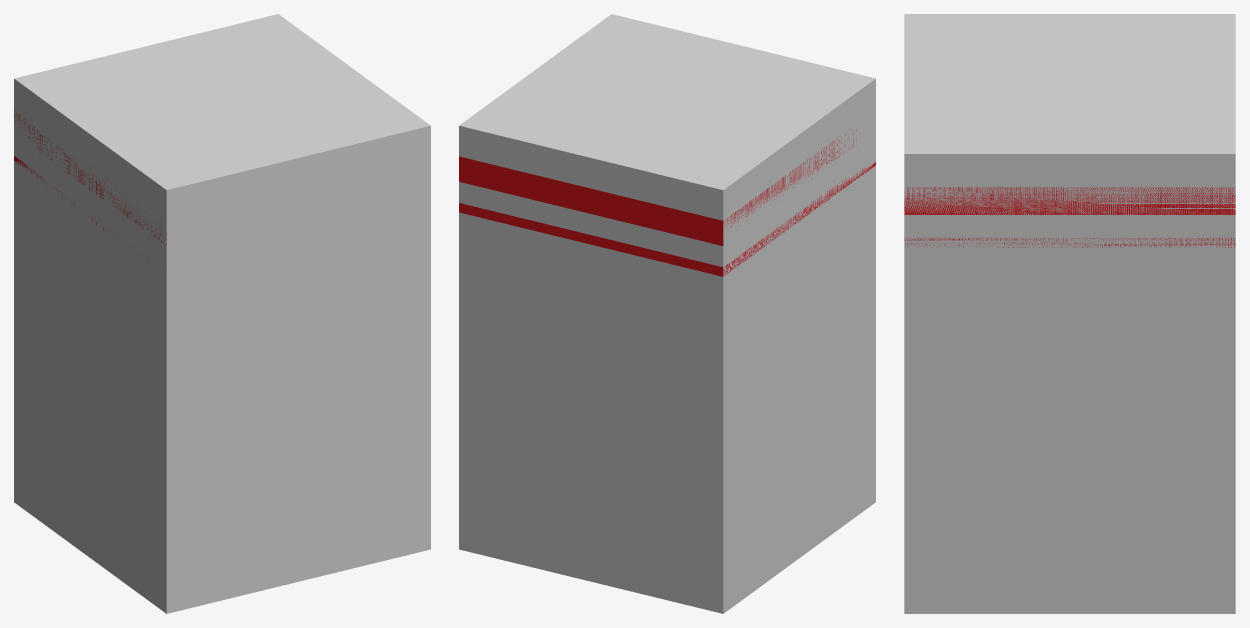
Rendered from Baptiste - Cube obsatcle V1.fbx.
3 views of the same model, side by side, from view 1: azimuth 30°, elevation 25°; view 2: azimuth 150°, elevation 25°; view 3: azimuth 270°, elevation 25° (orthographic). The views are drawn at different scales.
Visible parts, largest first — view 1: Cube.001, Cube.003; view 2: Cube.001, Cube.003; view 3: Cube.001, Cube.003.
Boxes of the visible parts, left/top/right/bottom form: Cube.001: left=14, top=14, right=430, bottom=613; Cube.003: left=14, top=110, right=166, bottom=245; Cube.001: left=459, top=14, right=875, bottom=613; Cube.003: left=459, top=129, right=875, bottom=276; Cube.001: left=904, top=14, right=1235, bottom=613; Cube.003: left=904, top=187, right=1235, bottom=247.
Size of the model in its own units: 45.3 by 69.4 by 45.3.
